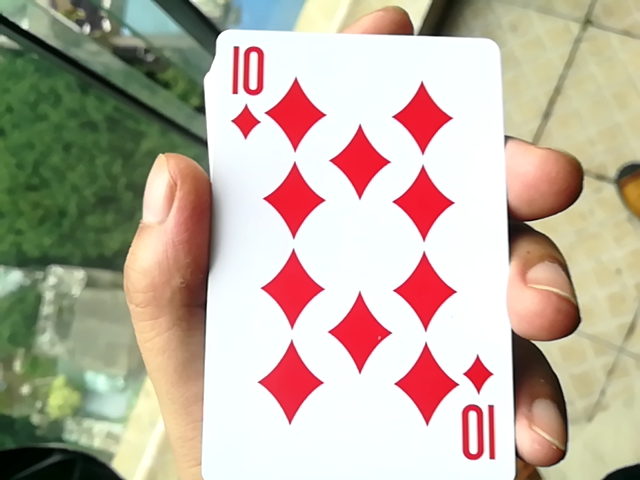fk 10: (190, 17, 519, 478)
